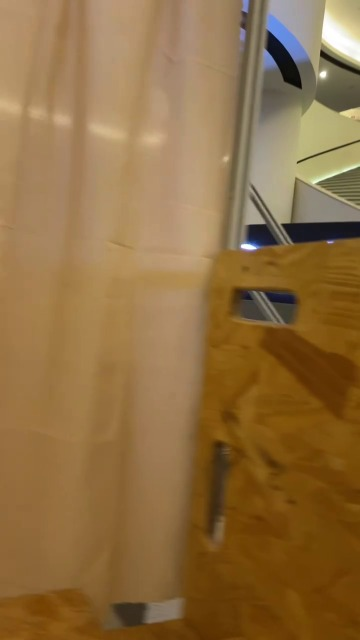curtain: (0, 0, 248, 602)
